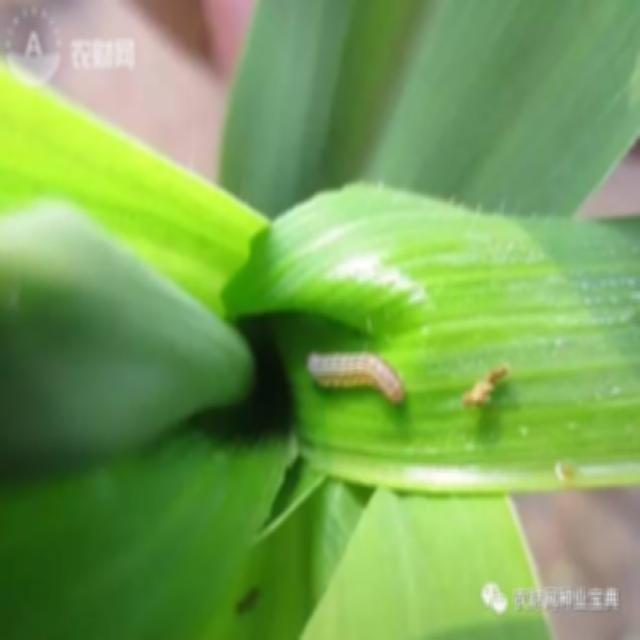army worm: (302, 351, 412, 415), (462, 358, 510, 413)
